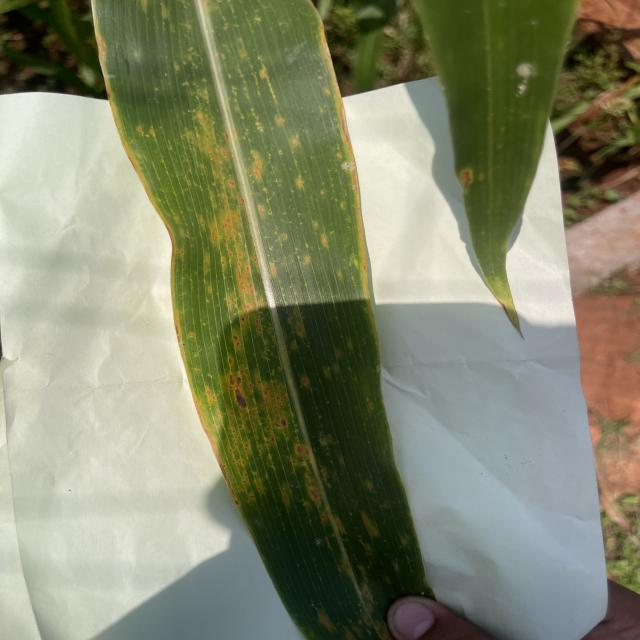millet_rust: (92, 0, 432, 640)
